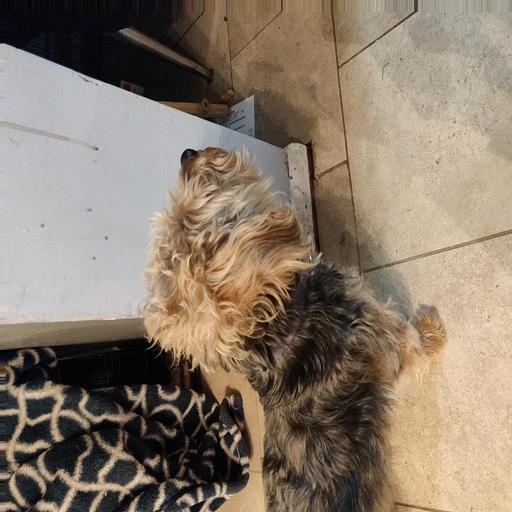dog: (119, 132, 410, 423)
